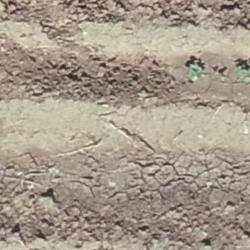cotton: (189, 66, 202, 76), (238, 70, 248, 78), (220, 73, 226, 79)
